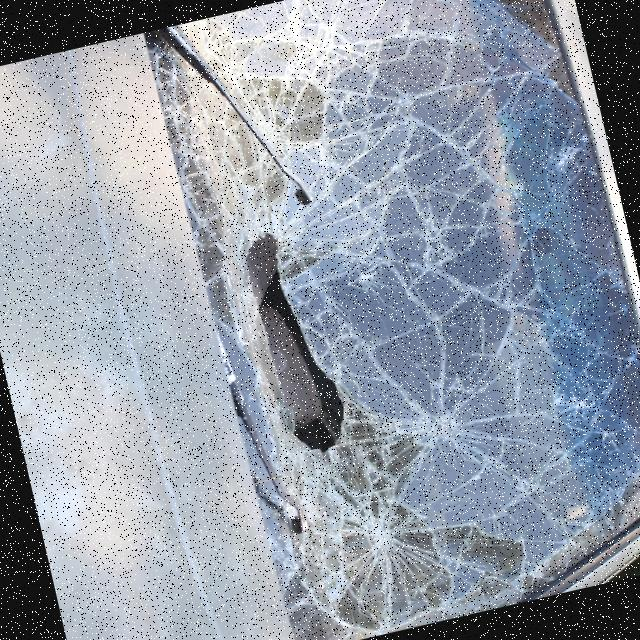Windshield: (151, 0, 640, 631)
